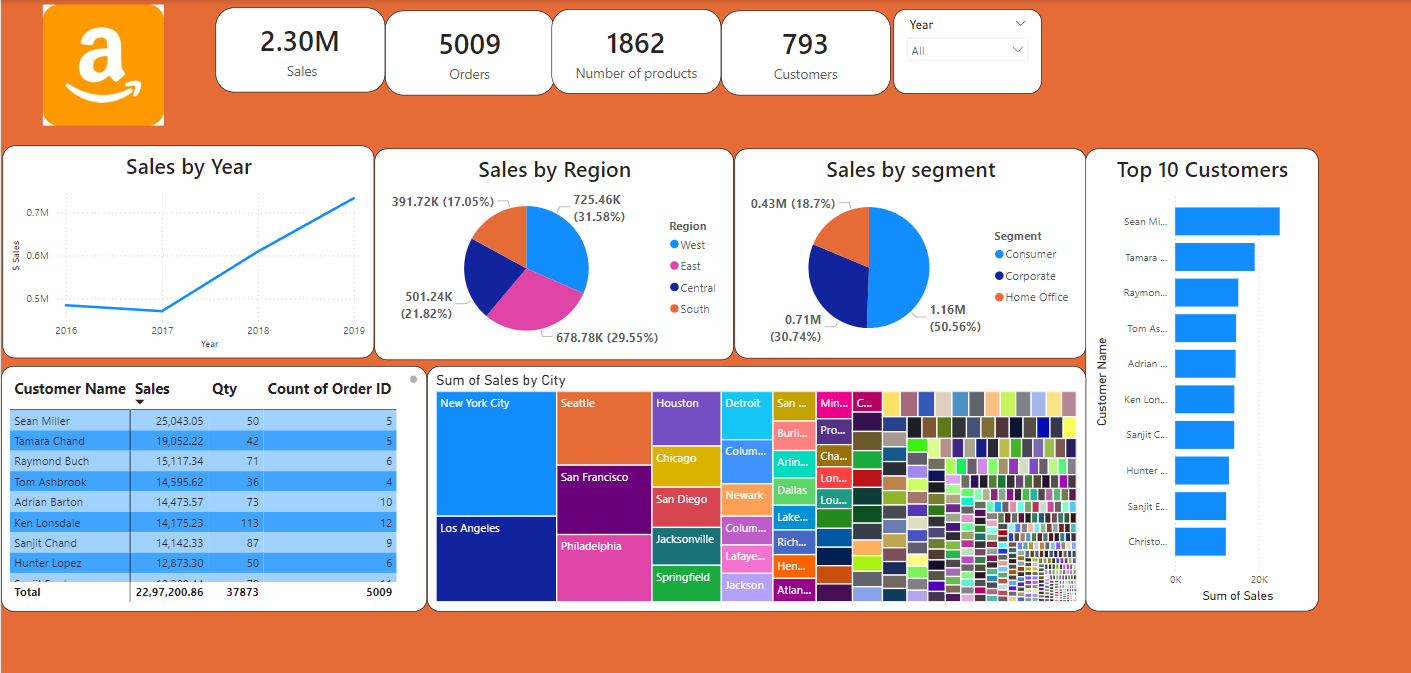

Layout of this report page (visuals, bound fields, positions):
{"tool":"powerbi","page":{"name":"Managers report","canvas":[1666,800],"ordinal":11},"visuals":[{"type":"card","title":"Sales","fields":{"Values":["Orders.Sales"]},"box":[252.7,9.1,200,100],"z":0},{"type":"image","box":[0,0,241.8,152.7],"z":1000},{"type":"card","title":"Sales","fields":{"Values":["Orders.Order ID"]},"box":[452.7,12.7,200,100],"z":2000},{"type":"card","title":"Sales","fields":{"Values":["Orders.Product ID"]},"box":[649.1,10.9,200,100],"z":3000},{"type":"card","title":"Sales","fields":{"Values":["Orders.Customer ID"]},"box":[849.1,12.7,200,100],"z":4000},{"type":"slicer","fields":{"Values":["Orders.Order Date.Variation.Date Hierarchy.Year"]},"box":[1050.9,10.9,174.5,100],"z":5000},{"type":"lineChart","title":"Sales by Year","fields":{"Category":["Orders.Order Date.Variation.Date Hierarchy.Year","Orders.Order Date.Variation.Date Hierarchy.Quarter","Orders.Order Date.Variation.Date Hierarchy.Month","Orders.Order Date.Variation.Date Hierarchy.Day"],"Y":["Orders.Sales"]},"box":[1.8,170.9,438.2,250.9],"z":6000},{"type":"pieChart","title":"Sales by Region","fields":{"Category":["Orders.Region"],"Y":["Orders.Sales"]},"box":[440,174.5,423.6,249.1],"z":7000},{"type":"pieChart","title":"Sales by segment","fields":{"Y":["Orders.Sales"],"Category":["Orders.Segment"]},"box":[863.6,174.5,414.5,247.3],"z":8000},{"type":"clusteredBarChart","title":"Top 10 Customers","fields":{"Category":["Orders.Customer Name"],"Y":["Orders.Sales"]},"box":[1278.2,174.5,274.5,545.5],"z":9000},{"type":"pivotTable","fields":{"Rows":["Orders.Customer Name"],"Values":["Orders.Sales","Orders.Quantity","Orders.Order ID"]},"box":[0,430.9,501.8,289.1],"z":10000},{"type":"treemap","fields":{"Group":["Orders.City"],"Values":["Orders.Sales"]},"box":[501.8,430.9,776.4,289.1],"z":11000}]}

Visuals, with their boxes in screenshot pixels (x1, y1, x2, y2), scaled from the page's 1666x800 canvas onto the 1411x673 screenshot:
"Sales" card: [214,8,383,92]
image: [0,0,205,128]
"Sales" card: [383,11,553,95]
"Sales" card: [550,9,719,93]
"Sales" card: [719,11,889,95]
slicer - Orders.Order Date.Variation.Date Hierarchy.Year: [890,9,1038,93]
"Sales by Year" lineChart: [2,144,373,355]
"Sales by Region" pieChart: [373,147,731,356]
"Sales by segment" pieChart: [731,147,1082,355]
"Top 10 Customers" clusteredBarChart: [1083,147,1315,606]
pivotTable - Orders.Customer Name x Orders.Sales: [0,362,425,606]
treemap - Orders.City x Orders.Sales: [425,362,1083,606]
